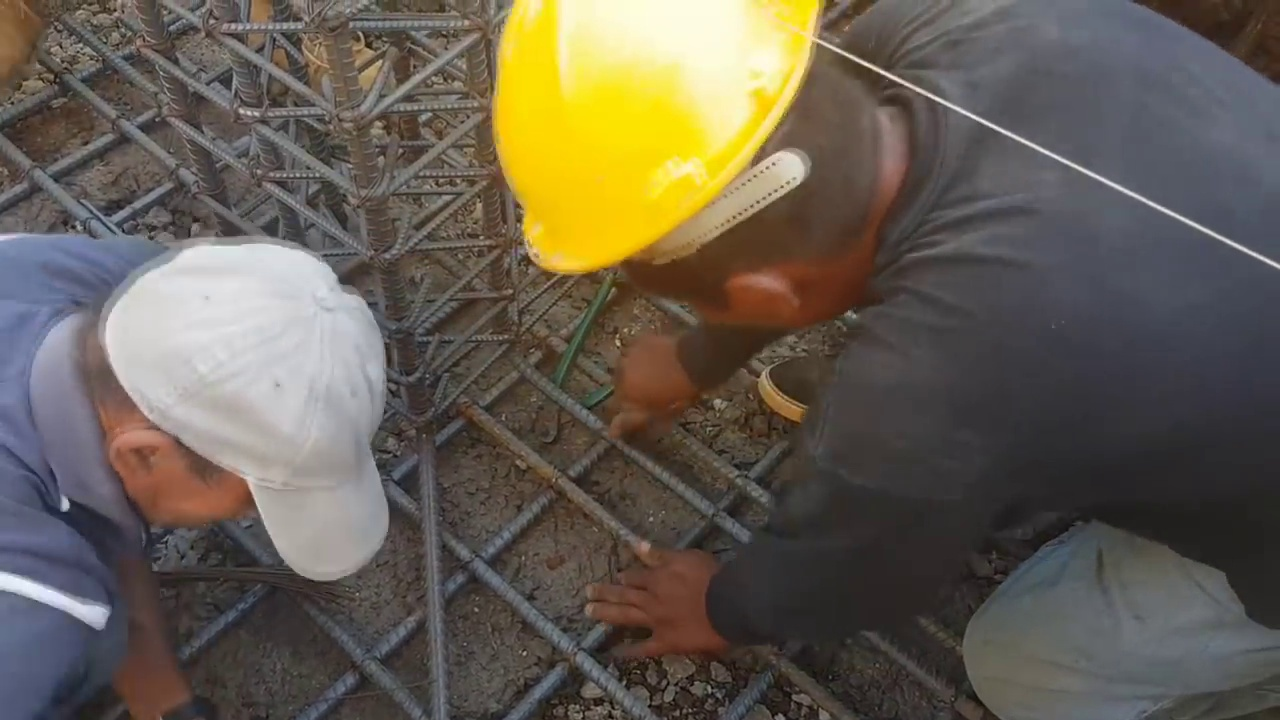helmet: (503, 0, 842, 281)
helmet-off: (70, 238, 404, 569)
helmet-on: (496, 0, 939, 340)
person: (494, 0, 1280, 719), (0, 224, 412, 717)
